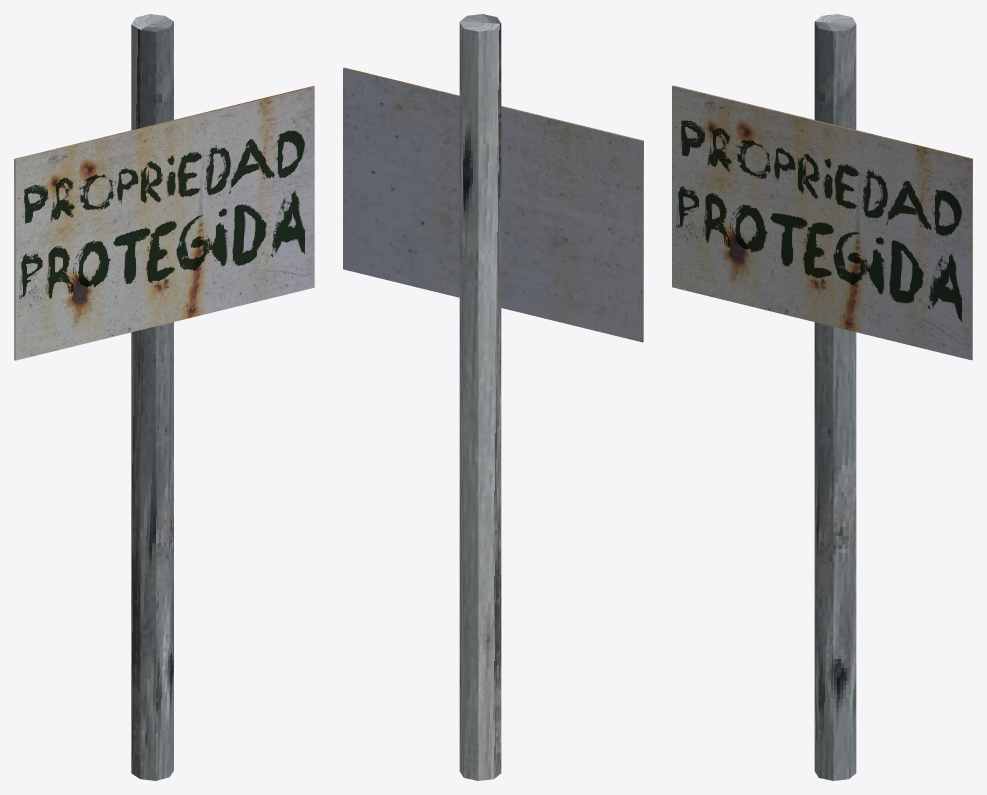
The model's file is NoPasar04.glb.
3 renders of one model, left to right at view 1: azimuth 30°, elevation 25°; view 2: azimuth 150°, elevation 25°; view 3: azimuth 330°, elevation 25°, orthographic.
Parts seen in each view (by area): view 1: Cube.052, Cube.053; view 2: Cube.052, Cube.053; view 3: Cube.052, Cube.053.
Part boxes in pixels (x1=…): Cube.052: x1=14, y1=86, x2=314, y2=360; Cube.053: x1=131, y1=14, x2=173, y2=780; Cube.052: x1=343, y1=67, x2=643, y2=342; Cube.053: x1=459, y1=14, x2=501, y2=780; Cube.052: x1=672, y1=85, x2=972, y2=360; Cube.053: x1=814, y1=14, x2=856, y2=780.
Size of the model in its own units: 0.1858 by 0.4439 by 0.0247.
2 materials, 2 textured.
